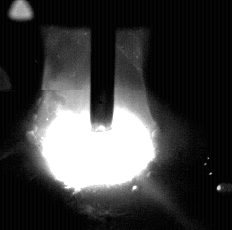arame: (91, 0, 116, 132)
poca: (33, 0, 158, 230)
